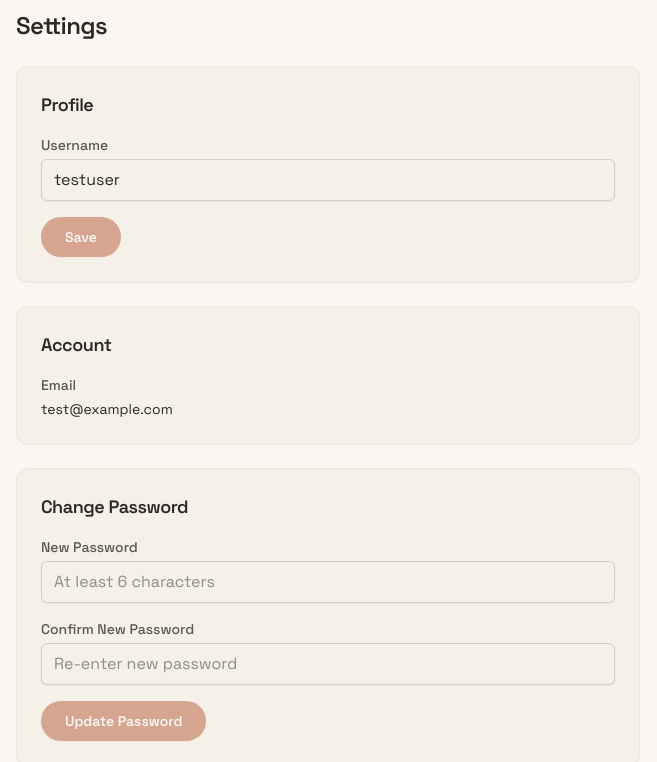
Test: SettingsPage › shows error for duplicate username (23505)
Replace the text in the field labelled "Username" with "taken" at x=328, y=180, box [41, 159, 615, 201]
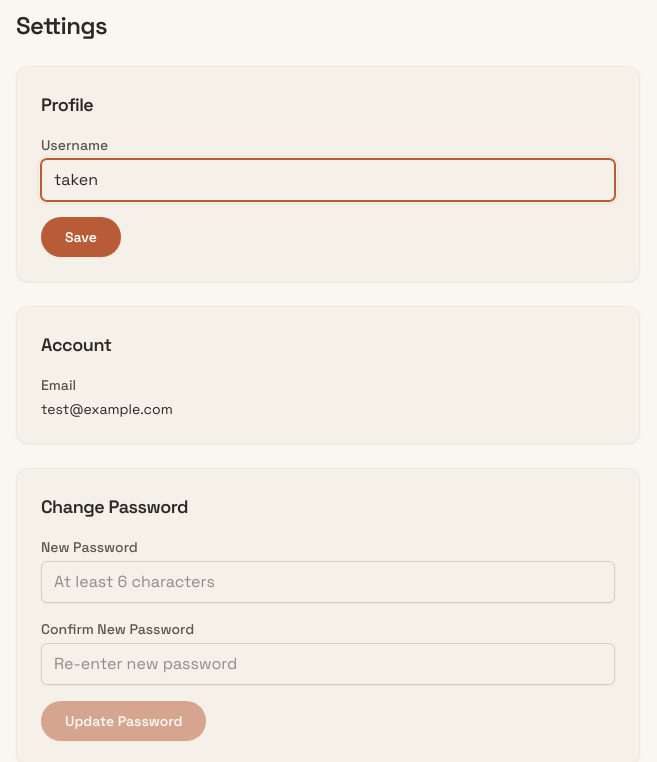
Click the button "Save" at x=81, y=237, box [41, 217, 121, 257]
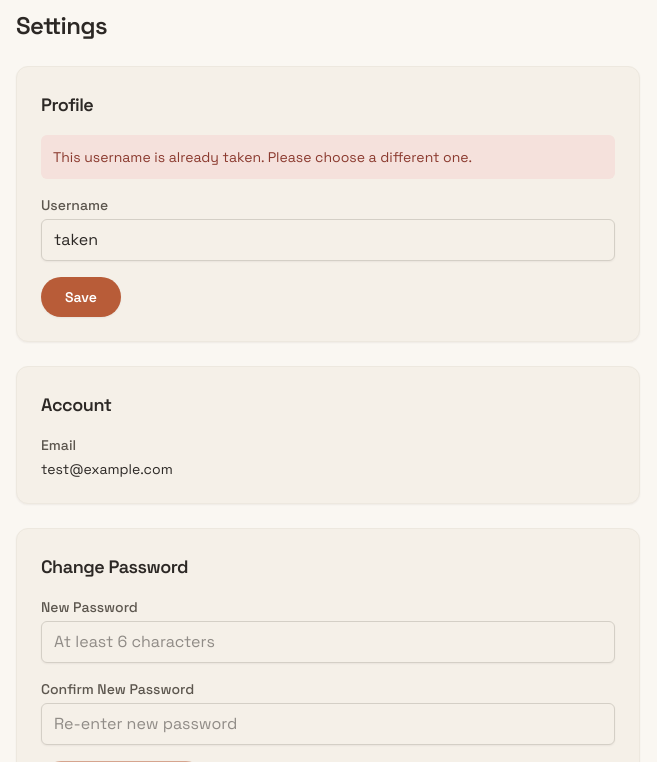
Result: the text "already taken" is shown at [53, 148, 472, 166]
